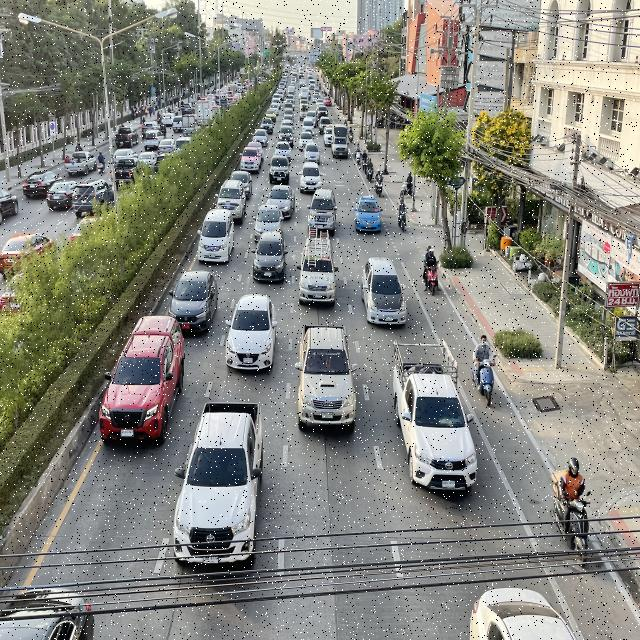bike: (550, 454, 596, 570), (470, 334, 500, 409), (421, 243, 442, 296), (396, 197, 408, 233), (374, 167, 384, 197)
car: (172, 401, 264, 569), (295, 323, 357, 432), (225, 292, 279, 374), (360, 255, 408, 329), (166, 269, 218, 336), (197, 208, 236, 265), (251, 232, 288, 285), (306, 187, 339, 236), (214, 180, 247, 225), (253, 204, 285, 244), (353, 194, 384, 233), (265, 184, 296, 220)
truck: (392, 338, 478, 496), (99, 314, 187, 451), (296, 238, 339, 304), (331, 124, 350, 159)
